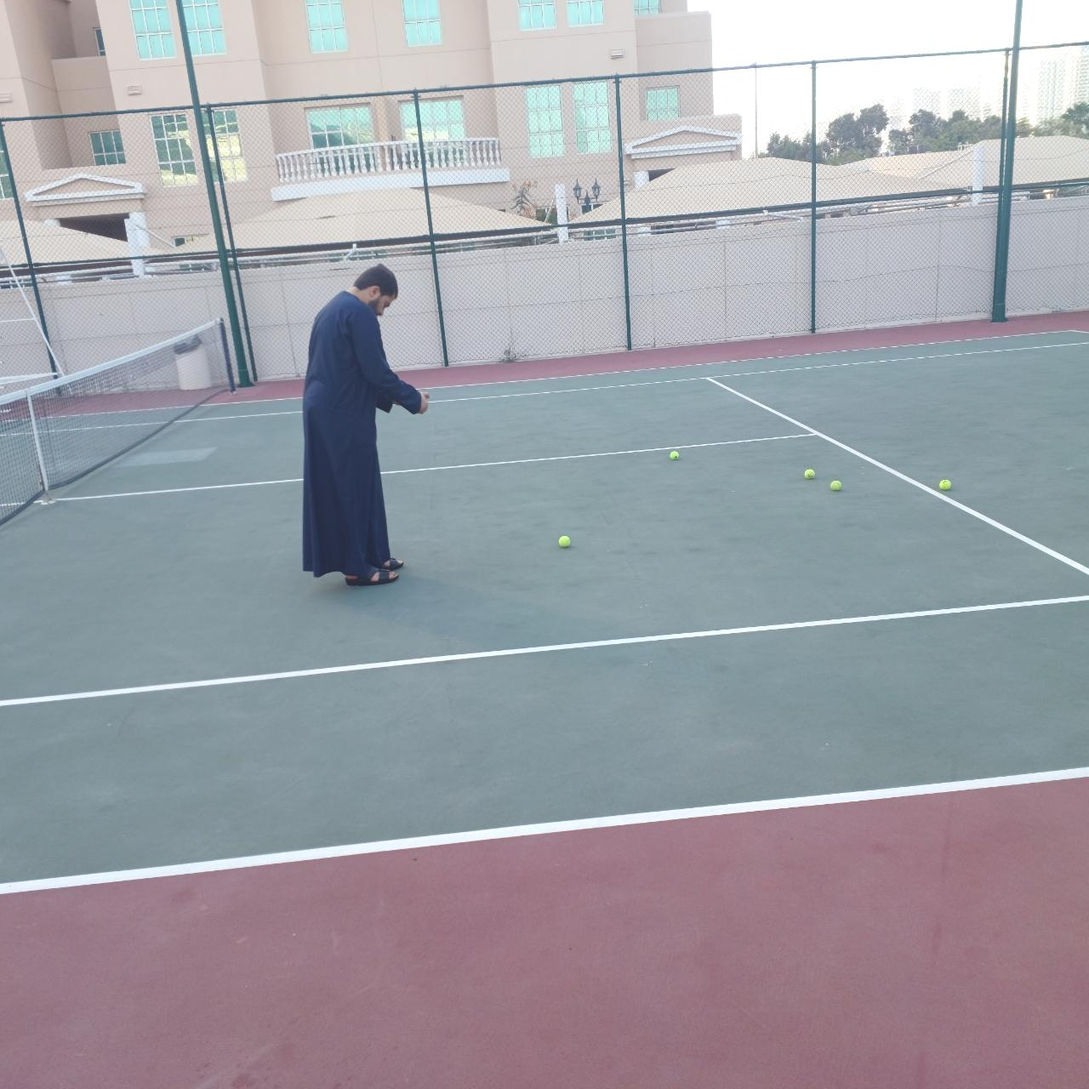tennis-ball: (558, 533, 573, 548), (939, 476, 954, 491), (830, 477, 844, 491), (803, 466, 818, 479), (670, 448, 682, 460)
